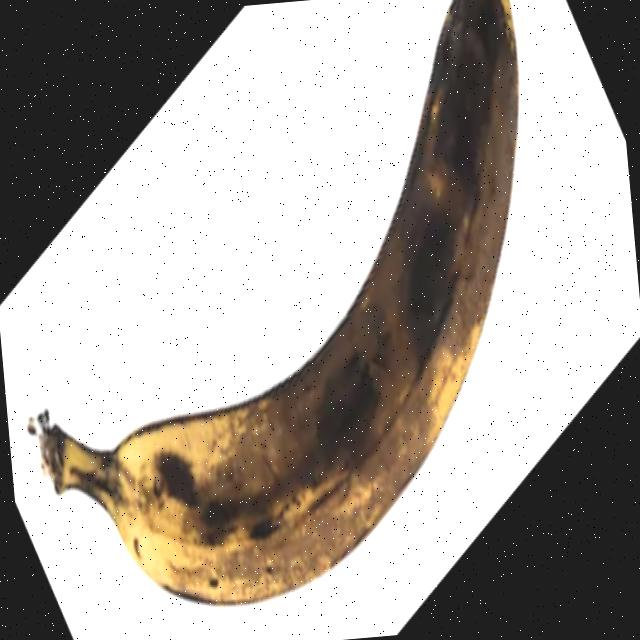overripe: (27, 0, 565, 628)
